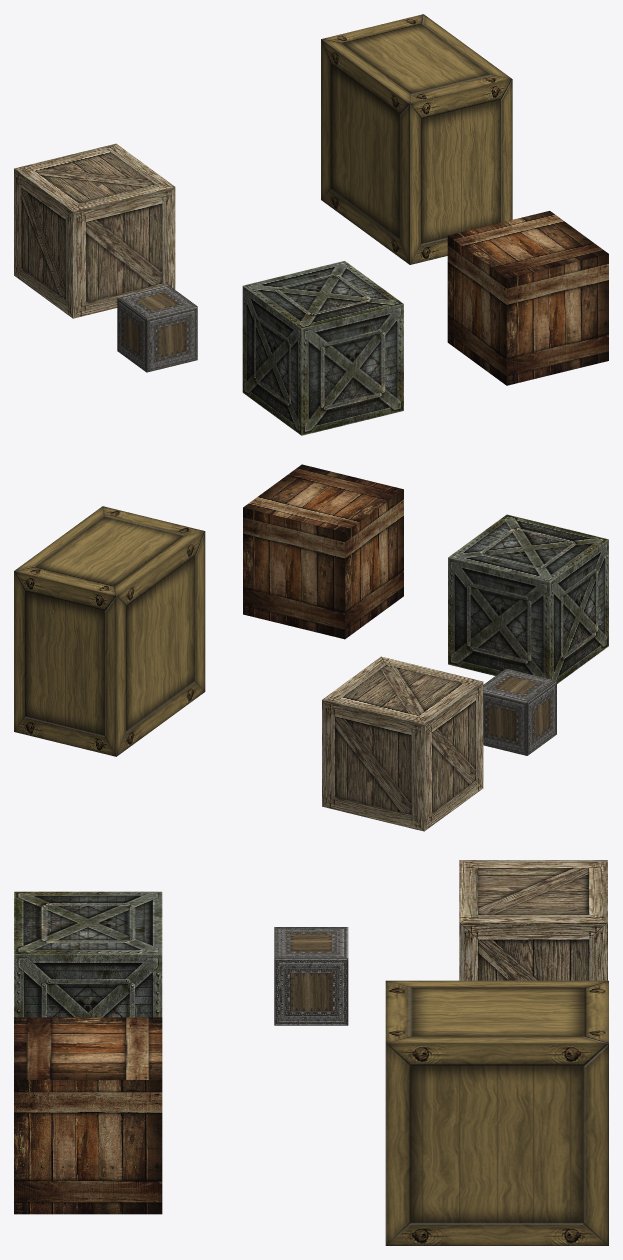
The model's file is boxes.FBX.
3 renders of one model, top to bottom at view 1: azimuth 30°, elevation 25°; view 2: azimuth 150°, elevation 25°; view 3: azimuth 270°, elevation 25°, orthographic. The views are drawn at different scales.
Visible parts, largest first — view 1: BoxSingle, BoxAttach, BoxG2, BoxG1; view 2: BoxSingle, BoxAttach, BoxG2, BoxG1; view 3: BoxSingle, BoxG2, BoxAttach, BoxG1.
Boxes of the visible parts, x1,y1,x2,y2 form: BoxSingle: [321, 14, 512, 264]; BoxAttach: [14, 143, 197, 372]; BoxG2: [447, 211, 608, 385]; BoxG1: [242, 261, 403, 435]; BoxSingle: [14, 506, 205, 756]; BoxAttach: [322, 656, 556, 831]; BoxG2: [243, 464, 403, 639]; BoxG1: [448, 514, 608, 683]; BoxSingle: [385, 980, 608, 1245]; BoxG2: [14, 1017, 162, 1214]; BoxAttach: [274, 860, 607, 1025]; BoxG1: [14, 891, 162, 1017].
Size of the model in its own units: 4 by 4 by 1.5.
5 materials, 5 textured.
